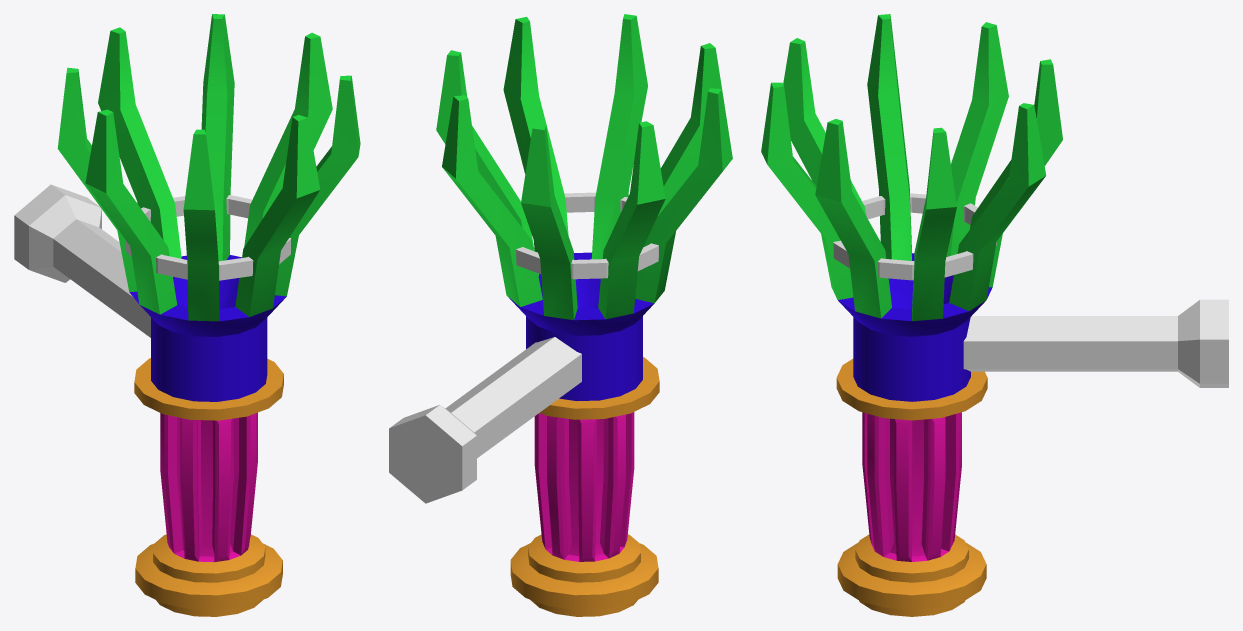
The model's file is TorchHang.fbx.
The picture shows the model from 3 angles, left to right: view 1: azimuth 30°, elevation 25°; view 2: azimuth 150°, elevation 25°; view 3: azimuth 270°, elevation 25°; orthographic projection.
Parts seen in each view (by area): view 1: Torch, Cylinder, Ring; view 2: Torch, Cylinder, Ring; view 3: Torch, Cylinder, Ring.
Boxes of the visible parts, x1,y1,x2,y2 form: Torch: (57,14,360,616); Cylinder: (14,184,150,337); Ring: (125,195,291,280); Torch: (436,14,732,616); Cylinder: (389,337,581,503); Ring: (516,192,658,279); Torch: (761,14,1062,616); Cylinder: (963,299,1228,387); Ring: (833,193,996,280).
Size of the model in its own units: 375 by 717 by 580.
